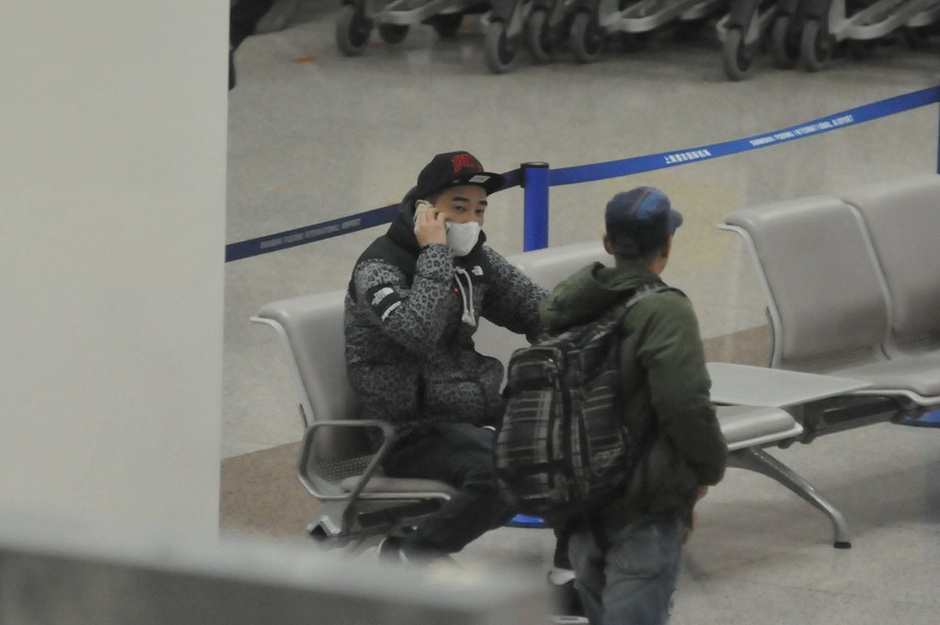face_mask: (434, 187, 485, 253)
